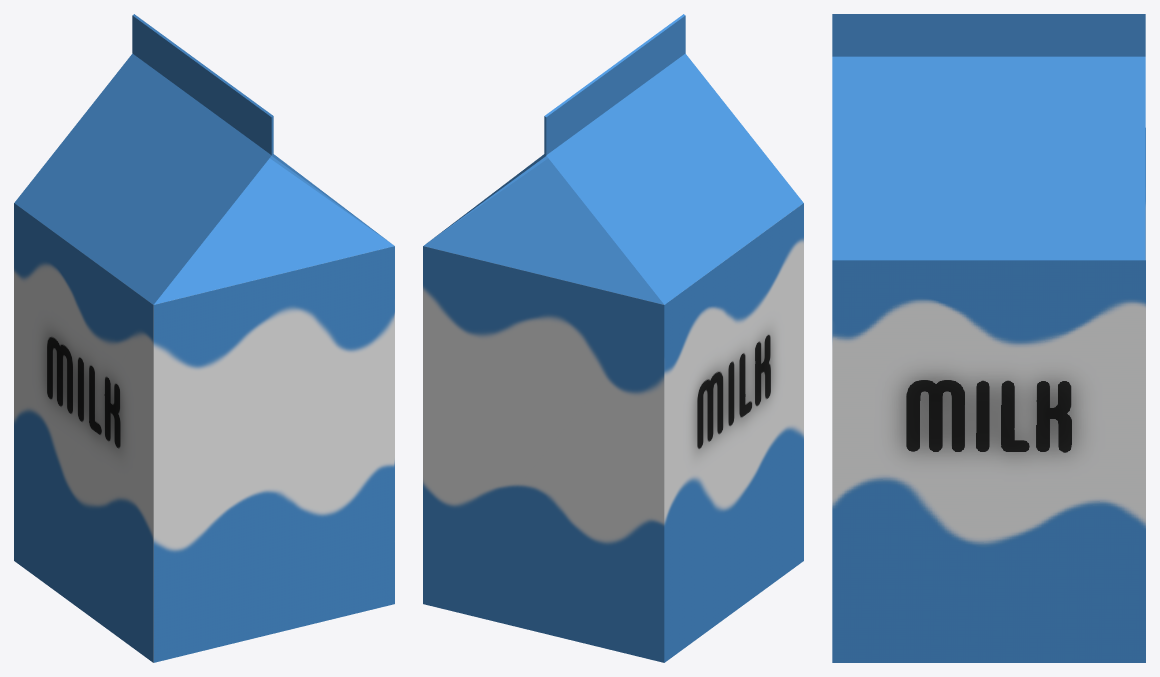
Rendered from milk.glb.
3 renders of one model, left to right at view 1: azimuth 30°, elevation 25°; view 2: azimuth 150°, elevation 25°; view 3: azimuth 270°, elevation 25°, orthographic. The views are drawn at different scales.
Visible parts, largest first — view 1: Cube; view 2: Cube; view 3: Cube.
Part boxes in pixels (bbox=[...]): Cube: bbox=[14, 14, 394, 662]; Cube: bbox=[423, 14, 803, 662]; Cube: bbox=[832, 14, 1145, 662].
Size of the model in its own units: 2 by 4.1 by 2.
2 materials, 2 textured.
